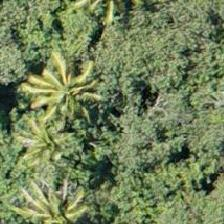coconut_tree: (14, 46, 104, 136), (3, 100, 93, 190), (25, 170, 115, 223)
